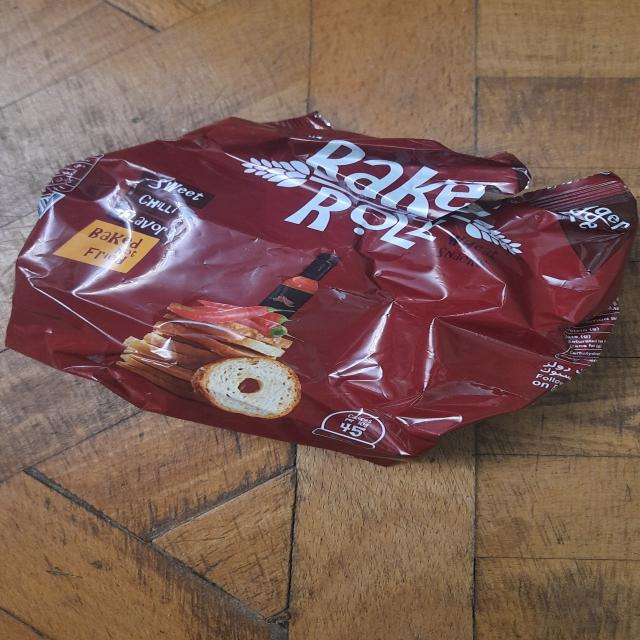plastic: (2, 115, 638, 469)
